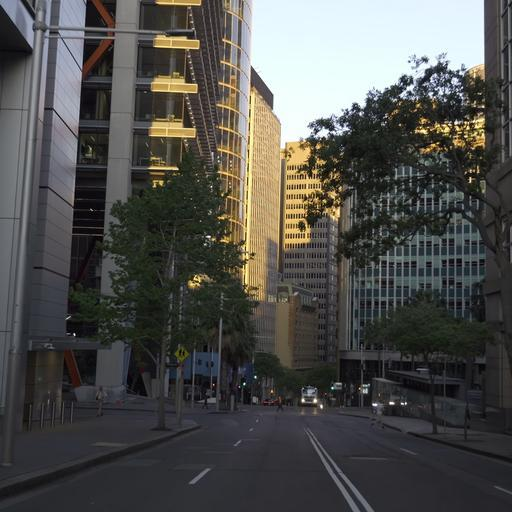Street light: (0, 2, 201, 467), (215, 293, 259, 409)
